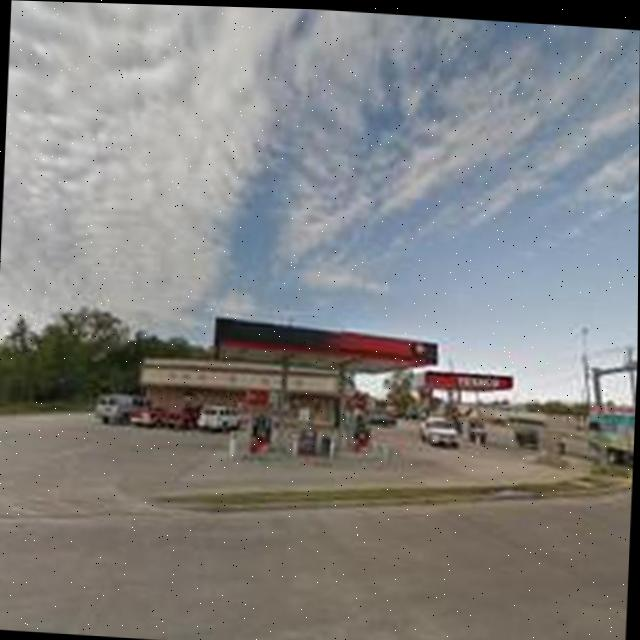building: (134, 307, 439, 448)
